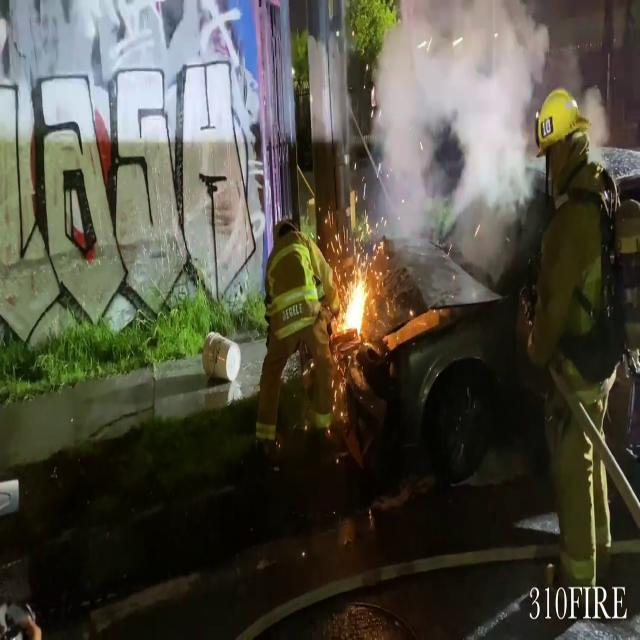Fire: (338, 262, 372, 346)
Smoke: (370, 0, 545, 272)
